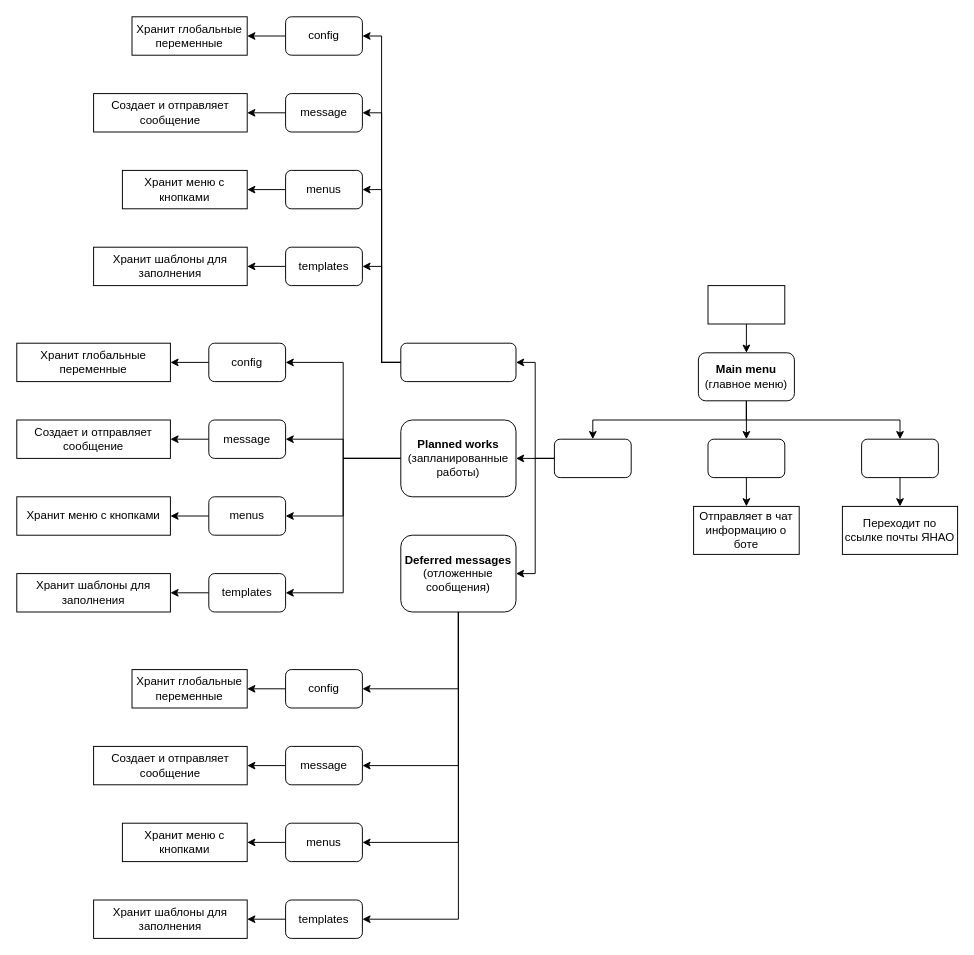
This 974x955 diagram has some shape labels left out. The shapes that lost their labels are listed below. From the top down, each one's centre as x and y in pixels, then its label:
At (746,304): "Start (Запуск бота)".
At (458,362): "Crash (авария)".
At (592,458): "Messages".
At (746,458): "Info".
At (899,458): "Mail".
